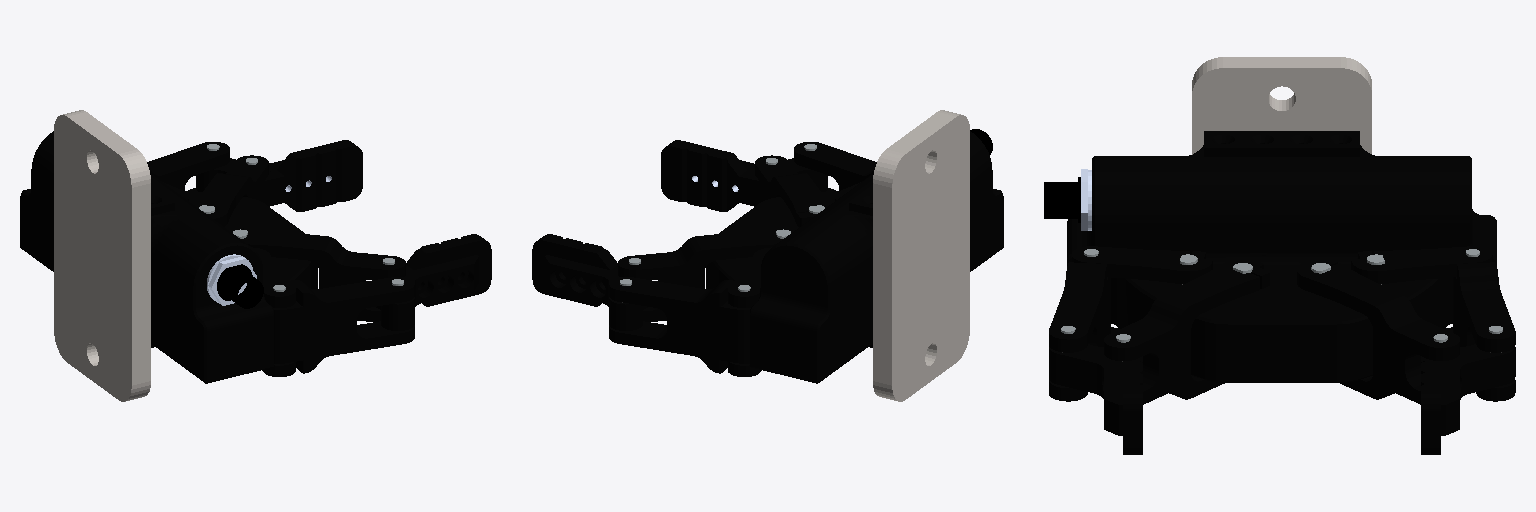
URDF robot description (robotiq_c2_model):
<?xml version="1.0" ?>
<!-- =================================================================================== -->
<!-- |    This document was autogenerated by xacro from robotiq_c2_model.xacro         | -->
<!-- |    EDITING THIS FILE BY HAND IS NOT RECOMMENDED                                 | -->
<!-- =================================================================================== -->
<!-- 
    Please note that the base link of the 2f gripper is
    "${prefix}robotiq_85_adapter_link"
 -->
<robot name="robotiq_c2_model" xmlns:xacro="http://ros.org/wiki/xacro">
  <link name="robotiq_85_adapter_link">
    <visual>
      <geometry>
        <mesh filename="package://visual/robotiq_85_gripper_adapter_plate.dae"/>
      </geometry>
      <origin rpy="1.5707 0 1.5707" xyz="0 0 0"/>
    </visual>
    <collision>
      <geometry>
        <mesh filename="package://collision/robotiq_85_gripper_adapter_plate.dae"/>
      </geometry>
      <origin rpy="0 0 1.5707" xyz="0 0 0"/>
    </collision>
  </link>
  <joint name="robotiq_85_base_joint" type="fixed">
    <parent link="robotiq_85_adapter_link"/>
    <child link="robotiq_85_base_link"/>
    <axis xyz="1 0 0"/>
    <origin rpy="0 0 0" xyz=".0085 0 -.0041"/>
  </joint>
  <link name="robotiq_85_base_link">
    <visual>
      <geometry>
        <mesh filename="package://visual/robotiq_85_gripper_base.dae"/>
      </geometry>
      <origin rpy="3.1415 0 1.5707" xyz="0 0 0"/>
    </visual>
    <collision>
      <geometry>
        <mesh filename="package://collision/robotiq_85_gripper_base.dae"/>
      </geometry>
      <origin rpy="1.5707 0 1.5707" xyz="0 0 0"/>
    </collision>
  </link>
  <joint name="robotiq_85_left_knuckle_joint" type="revolute">
    <parent link="robotiq_85_base_link"/>
    <child link="robotiq_85_left_knuckle_link"/>
    <axis xyz="1 0 0"/>
    <origin rpy="-1.5707 1.5707 0" xyz=".04191 .0306 0"/>
    <limit effort="1000" lower="0" upper=".8575" velocity="2.0"/>
  </joint>
  <joint name="robotiq_85_right_knuckle_joint" type="revolute">
    <parent link="robotiq_85_base_link"/>
    <child link="robotiq_85_right_knuckle_link"/>
    <axis xyz="1 0 0"/>
    <origin rpy="1.5707 -1.5707 0" xyz=".04191 -.0306 0"/>
    <limit effort="1000" lower="0" upper="1.5707" velocity="2.0"/>
    <mimic joint="robotiq_85_left_knuckle_joint" multiplier="1"/>
  </joint>
  <link name="robotiq_85_left_knuckle_link">
    <visual>
      <geometry>
        <mesh filename="package://visual/robotiq_85_gripper_joint_0_L.dae"/>
      </geometry>
      <origin rpy="3.14159 -1.5707 0" xyz="0 .04191 -.0306"/>
    </visual>
    <collision>
      <geometry>
        <mesh filename="package://collision/robotiq_85_gripper_joint_0_L.dae"/>
      </geometry>
      <origin rpy="1.5707 -1.5707 0" xyz="0 .04191 -.0306"/>
    </collision>
  </link>
  <link name="robotiq_85_right_knuckle_link">
    <visual>
      <geometry>
        <mesh filename="package://visual/robotiq_85_gripper_joint_0_R.dae"/>
      </geometry>
      <origin rpy="3.14159 1.5707 0" xyz="0 .04191 -.0306"/>
    </visual>
    <collision>
      <geometry>
        <mesh filename="package://collision/robotiq_85_gripper_joint_0_R.dae"/>
      </geometry>
      <origin rpy="1.5707 1.5707 0" xyz="0 .04191 -.0306"/>
    </collision>
  </link>
  <joint name="robotiq_85_left_finger_joint" type="fixed">
    <parent link="robotiq_85_left_knuckle_link"/>
    <child link="robotiq_85_left_finger_link"/>
    <axis xyz="1 0 0"/>
    <origin rpy="3.1415 0 0" xyz="0 .00508 .03134"/>
    <limit effort="1000" lower="0" upper="1.5707" velocity="2.0"/>
  </joint>
  <joint name="robotiq_85_right_finger_joint" type="fixed">
    <parent link="robotiq_85_right_knuckle_link"/>
    <child link="robotiq_85_right_finger_link"/>
    <axis xyz="1 0 0"/>
    <origin rpy="3.1415 0 0" xyz="0 .00508 .03134"/>
    <limit effort="1000" lower="0" upper="1.5707" velocity="2.0"/>
  </joint>
  <link name="robotiq_85_left_finger_link">
    <visual>
      <geometry>
        <mesh filename="package://visual/robotiq_85_gripper_joint_1_L.dae"/>
      </geometry>
      <origin rpy="0 1.5707 0" xyz="0 -.03683 .06194"/>
    </visual>
    <collision>
      <geometry>
        <mesh filename="package://collision/robotiq_85_gripper_joint_1_L.dae"/>
      </geometry>
      <origin rpy="-1.5707 1.5707 0" xyz="0 -.03683 .06194"/>
    </collision>
  </link>
  <link name="robotiq_85_right_finger_link">
    <visual>
      <geometry>
        <mesh filename="package://visual/robotiq_85_gripper_joint_1_R.dae"/>
      </geometry>
      <origin rpy="0 -1.5707 0" xyz="0 -.03683 .06194"/>
    </visual>
    <collision>
      <geometry>
        <mesh filename="package://collision/robotiq_85_gripper_joint_1_R.dae"/>
      </geometry>
      <origin rpy="-1.5707 -1.5707 0" xyz="0 -.03683 .06194"/>
    </collision>
  </link>
  <joint name="robotiq_85_left_inner_knuckle_joint" type="revolute">
    <parent link="robotiq_85_base_link"/>
    <child link="robotiq_85_left_inner_knuckle_link"/>
    <axis xyz="1 0 0"/>
    <origin rpy="1.5707 1.5707 0" xyz=".04843 .0127 0"/>
    <limit effort="1000" lower="0" upper="1.5707" velocity="2.0"/>
    <mimic joint="robotiq_85_left_knuckle_joint" offset="0"/>
  </joint>
  <joint name="robotiq_85_right_inner_knuckle_joint" type="revolute">
    <parent link="robotiq_85_base_link"/>
    <child link="robotiq_85_right_inner_knuckle_link"/>
    <axis xyz="1 0 0"/>
    <origin rpy="-1.5707 -1.5707 0" xyz=".04843 -.0127 0"/>
    <limit effort="1000" lower="0" upper="1.5707" velocity="2.0"/>
    <mimic joint="robotiq_85_left_knuckle_joint" offset="0"/>
  </joint>
  <link name="robotiq_85_left_inner_knuckle_link">
    <visual>
      <geometry>
        <mesh filename="package://visual/robotiq_85_gripper_joint_2_L.dae"/>
      </geometry>
      <origin rpy="0 1.5707 0" xyz="0 -.04843 .0127"/>
    </visual>
    <collision>
      <geometry>
        <mesh filename="package://collision/robotiq_85_gripper_joint_2_L.dae"/>
      </geometry>
      <origin rpy="-1.5707 1.5707 0" xyz="0 -.04843 .0127"/>
    </collision>
  </link>
  <link name="robotiq_85_right_inner_knuckle_link">
    <visual>
      <geometry>
        <mesh filename="package://visual/robotiq_85_gripper_joint_2_R.dae"/>
      </geometry>
      <origin rpy="0 -1.5707 0" xyz="0 -.04843 .0127"/>
    </visual>
    <collision>
      <geometry>
        <mesh filename="package://collision/robotiq_85_gripper_joint_2_R.dae"/>
      </geometry>
      <origin rpy="-1.5707 -1.5707 0" xyz="0 -.04843 .0127"/>
    </collision>
  </link>
  <joint name="robotiq_85_left_finger_tip_joint" type="revolute">
    <parent link="robotiq_85_left_inner_knuckle_link"/>
    <child link="robotiq_85_left_finger_tip_link"/>
    <axis xyz="1 0 0"/>
    <origin rpy="0 0 0" xyz="0 .04196 -.0388"/>
    <limit effort="1000" lower="0" upper="1.5707" velocity="2.0"/>
    <mimic joint="robotiq_85_left_knuckle_joint" multiplier="-1"/>
  </joint>
  <joint name="robotiq_85_right_finger_tip_joint" type="revolute">
    <parent link="robotiq_85_right_inner_knuckle_link"/>
    <child link="robotiq_85_right_finger_tip_link"/>
    <axis xyz="1 0 0"/>
    <origin rpy="0 0 0" xyz="0 .04196 -.0388"/>
    <limit effort="1000" lower="0" upper="1.5707" velocity="2.0"/>
    <mimic joint="robotiq_85_left_knuckle_joint" multiplier="-1"/>
  </joint>
  <link name="robotiq_85_left_finger_tip_link">
    <visual>
      <geometry>
        <mesh filename="package://visual/robotiq_85_gripper_joint_3_L.dae"/>
      </geometry>
      <origin rpy="0 1.5707 0" xyz="0 -.090381 .051505"/>
    </visual>
    <collision>
      <geometry>
        <mesh filename="package://collision/robotiq_85_gripper_joint_3_L.dae"/>
      </geometry>
      <origin rpy="-1.5707 1.5707 0" xyz="0 -.090381 .051505"/>
    </collision>
  </link>
  <link name="robotiq_85_right_finger_tip_link">
    <visual>
      <geometry>
        <mesh filename="package://visual/robotiq_85_gripper_joint_3_R.dae"/>
      </geometry>
      <origin rpy="0 -1.5707 0" xyz="0 -.090381 .051505"/>
    </visual>
    <collision>
      <geometry>
        <mesh filename="package://collision/robotiq_85_gripper_joint_3_R.dae"/>
      </geometry>
      <origin rpy="-1.5707 -1.5707 0" xyz="0 -.090381 .051505"/>
    </collision>
  </link>
</robot>

--- What the picture shows (computed from the rendered views, not written in the file) ---
Views: 3 orthographic renders of the robot side by side, from view 1: azimuth 30°, elevation 25°; view 2: azimuth 150°, elevation 25°; view 3: azimuth 270°, elevation 25°.
Robot: robotiq_c2_model — 10 links, 9 joints (6 revolute, 3 fixed); root link robotiq_85_adapter_link; default pose: every joint at zero.
Visible links, largest first — view 1: robotiq_85_adapter_link, robotiq_85_base_link, robotiq_85_right_finger_link, robotiq_85_left_finger_tip_link, robotiq_85_right_finger_tip_link, robotiq_85_right_inner_knuckle_link, robotiq_85_left_inner_knuckle_link, robotiq_85_left_finger_link, robotiq_85_right_knuckle_link; view 2: robotiq_85_adapter_link, robotiq_85_base_link, robotiq_85_left_finger_link, robotiq_85_right_finger_tip_link, robotiq_85_left_finger_tip_link, robotiq_85_left_inner_knuckle_link, robotiq_85_right_inner_knuckle_link, robotiq_85_right_finger_link, robotiq_85_left_knuckle_link; view 3: robotiq_85_base_link, robotiq_85_adapter_link, robotiq_85_right_inner_knuckle_link, robotiq_85_left_inner_knuckle_link, robotiq_85_left_finger_tip_link, robotiq_85_right_finger_tip_link, robotiq_85_left_finger_link, robotiq_85_right_finger_link, robotiq_85_left_knuckle_link, robotiq_85_right_knuckle_link.
Boxes of the visible links, x1=… form: robotiq_85_adapter_link: x1=54, y1=110, x2=150, y2=401; robotiq_85_base_link: x1=20, y1=131, x2=317, y2=383; robotiq_85_right_finger_link: x1=273, y1=277, x2=414, y2=373; robotiq_85_left_finger_tip_link: x1=196, y1=140, x2=362, y2=211; robotiq_85_right_finger_tip_link: x1=376, y1=234, x2=491, y2=330; robotiq_85_right_inner_knuckle_link: x1=230, y1=225, x2=405, y2=321; robotiq_85_left_inner_knuckle_link: x1=192, y1=155, x2=268, y2=226; robotiq_85_left_finger_link: x1=147, y1=142, x2=229, y2=191; robotiq_85_right_knuckle_link: x1=252, y1=247, x2=295, y2=376; robotiq_85_adapter_link: x1=873, y1=110, x2=969, y2=401; robotiq_85_base_link: x1=706, y1=129, x2=1003, y2=383; robotiq_85_left_finger_link: x1=609, y1=277, x2=750, y2=373; robotiq_85_right_finger_tip_link: x1=661, y1=140, x2=827, y2=211; robotiq_85_left_finger_tip_link: x1=532, y1=234, x2=647, y2=330; robotiq_85_left_inner_knuckle_link: x1=618, y1=226, x2=796, y2=321; robotiq_85_right_inner_knuckle_link: x1=755, y1=155, x2=831, y2=226; robotiq_85_right_finger_link: x1=794, y1=142, x2=876, y2=191; robotiq_85_left_knuckle_link: x1=728, y1=247, x2=771, y2=376; robotiq_85_base_link: x1=1044, y1=131, x2=1496, y2=382; robotiq_85_adapter_link: x1=1192, y1=57, x2=1371, y2=154; robotiq_85_right_inner_knuckle_link: x1=1104, y1=259, x2=1269, y2=404; robotiq_85_left_inner_knuckle_link: x1=1297, y1=258, x2=1459, y2=404; robotiq_85_left_finger_tip_link: x1=1421, y1=344, x2=1515, y2=454; robotiq_85_right_finger_tip_link: x1=1049, y1=344, x2=1142, y2=454; robotiq_85_left_finger_link: x1=1453, y1=262, x2=1515, y2=401; robotiq_85_right_finger_link: x1=1049, y1=262, x2=1110, y2=401; robotiq_85_left_knuckle_link: x1=1351, y1=246, x2=1492, y2=332; robotiq_85_right_knuckle_link: x1=1072, y1=246, x2=1212, y2=332.
Bounding box of the posed robot: 0.1434 × 0.1529 × 0.102 m (x, y, z).
Meshes: 10 distinct files referenced, 10 mesh visuals loaded (10 Collada DAE).